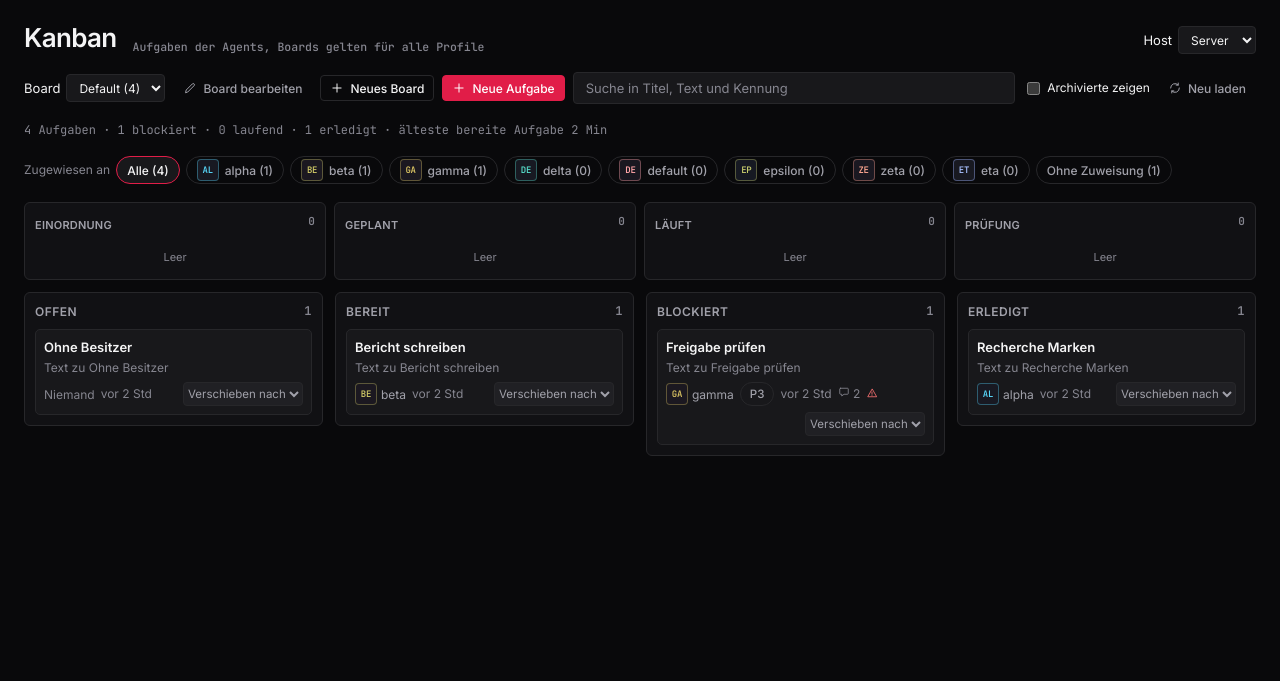
Test case: Kanban Detail und Anlegen › öffnet eine Karte, bearbeitet Titel und Text und speichert nur Geändertes
Expected: the text "Recherche Marken" is shown, [977, 339, 1095, 355]
Click the button with aria-label "Aufgabe öffnen: Freigabe prüfen": [796, 357] box [666, 338, 925, 376]
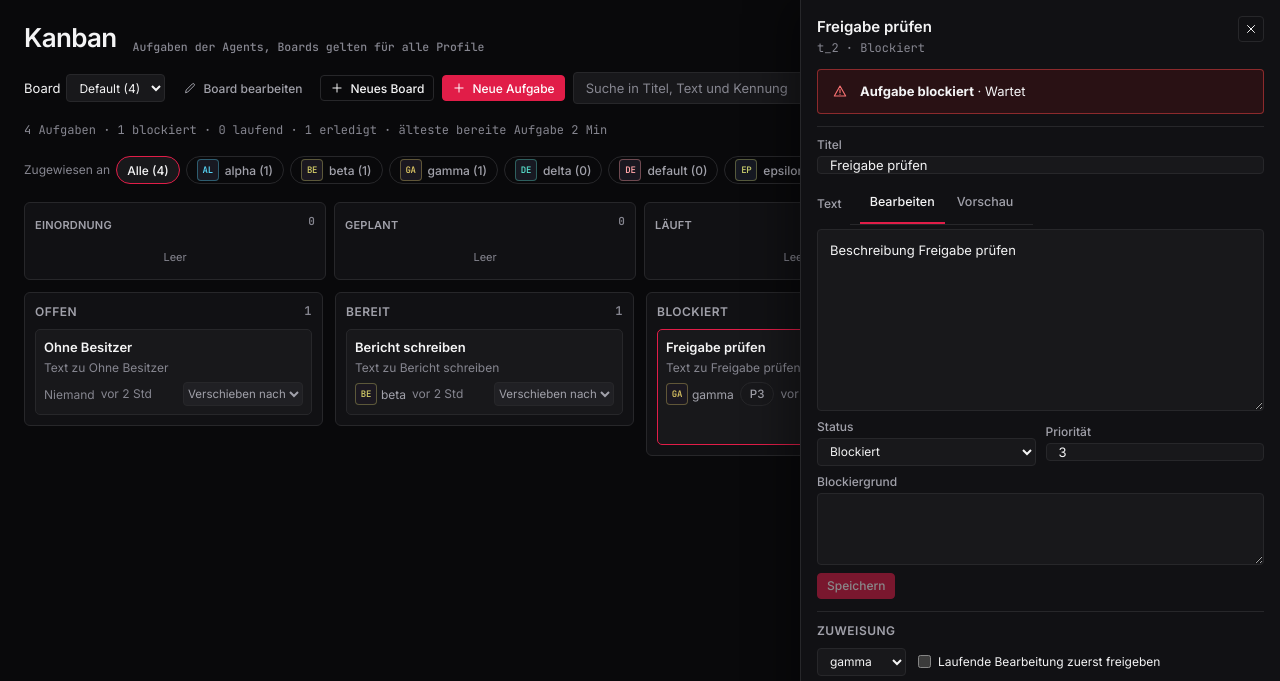
Now the text "Aufgabe blockiert" is shown, box [860, 83, 974, 99]
Now the button "Speichern" is disabled, box [817, 573, 896, 599]
Replace the text in the field labelled "Titel" with "Freigabe prüfen v2": [1040, 165] box [817, 156, 1264, 174]
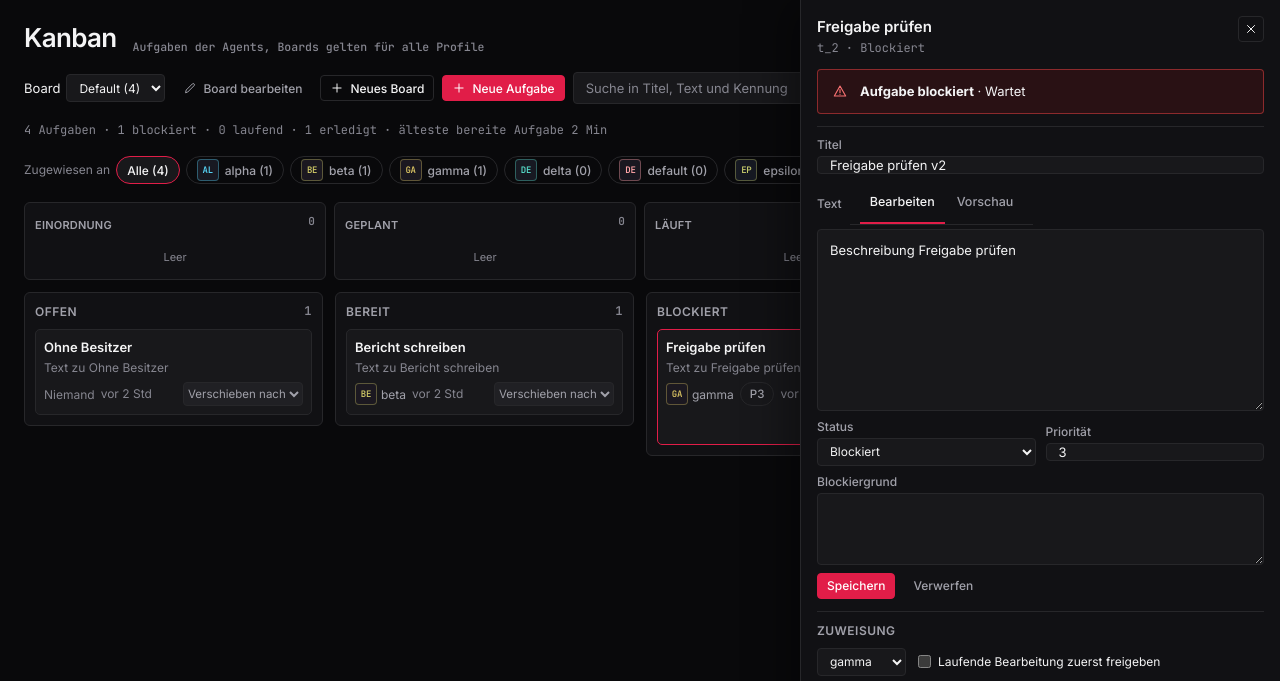
Replace the text in the text box named "Text" with "# Neu": [1040, 320] box [817, 229, 1264, 411]
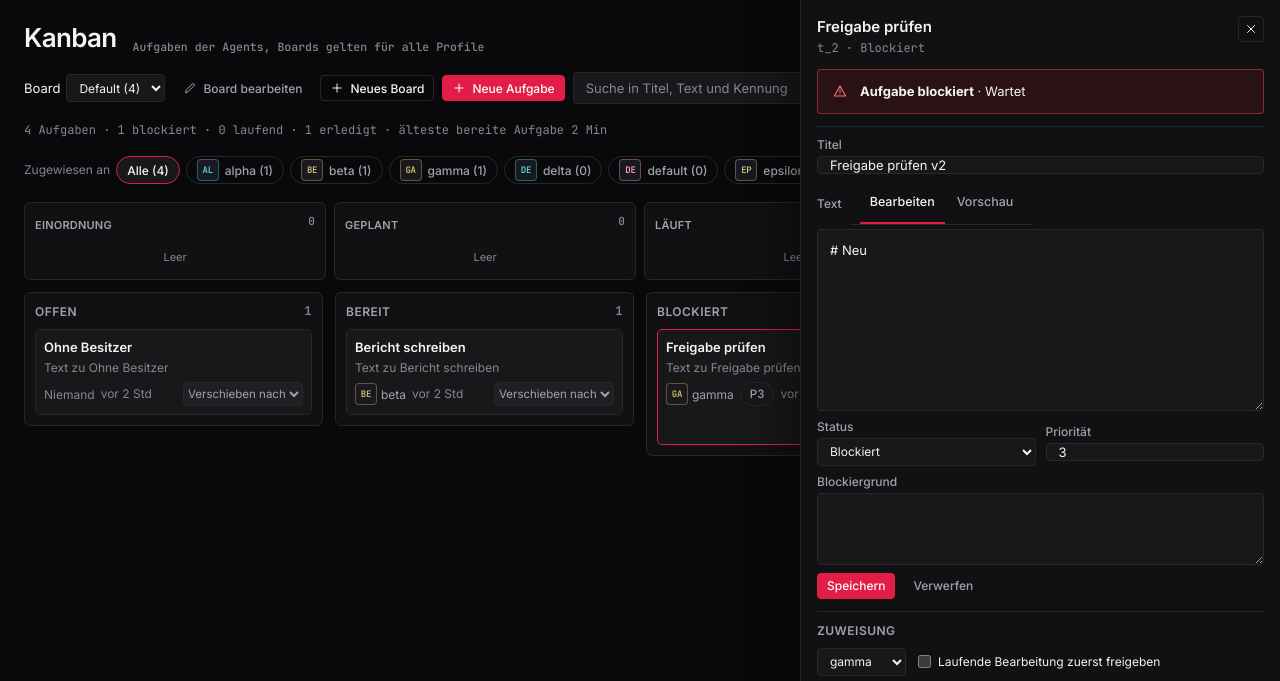
Click the tab "Vorschau": [985, 203] box [947, 182, 1023, 224]
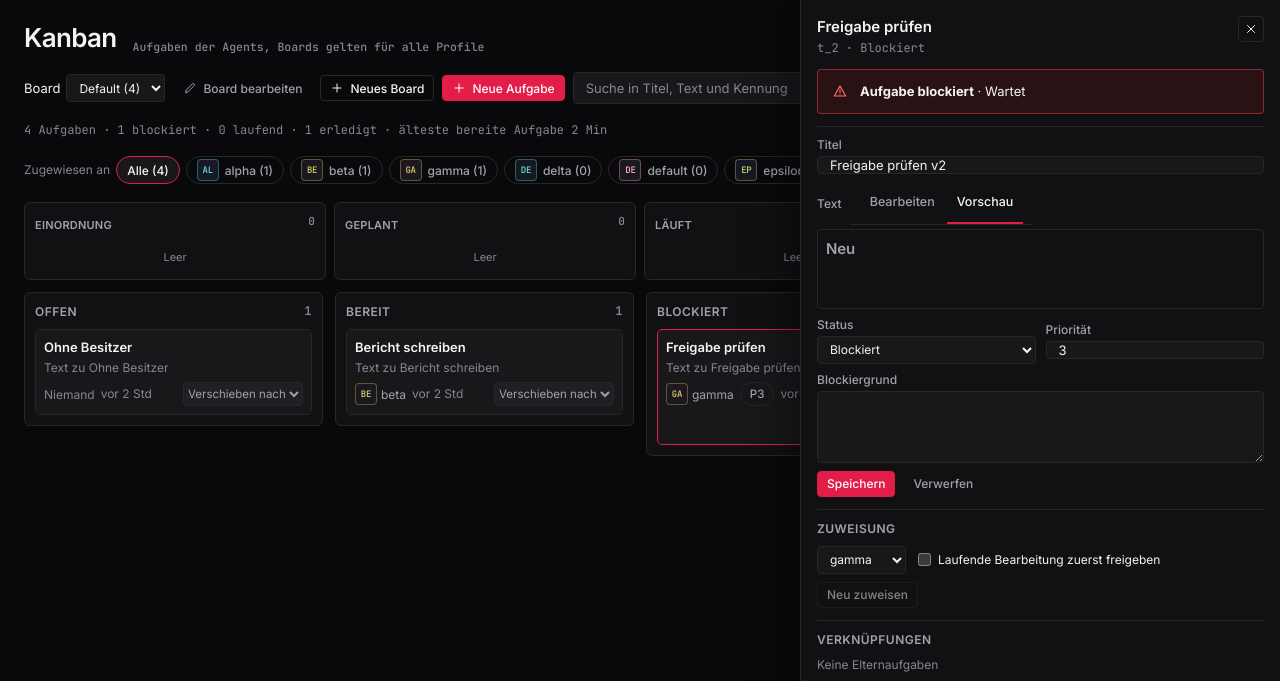
Now the heading "Neu" is shown, box [826, 239, 855, 258]
Click the button "Speichern": [856, 484] box [817, 471, 896, 497]
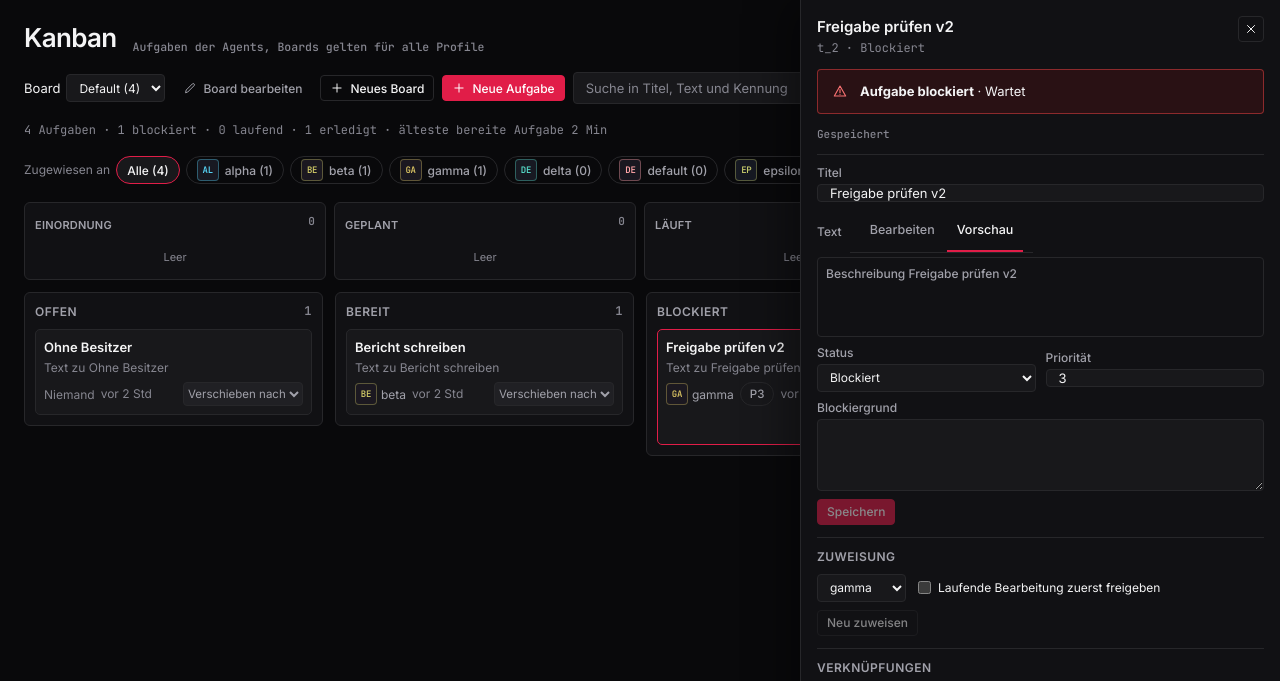
Now the text "Gespeichert" is shown, box [817, 127, 890, 141]
